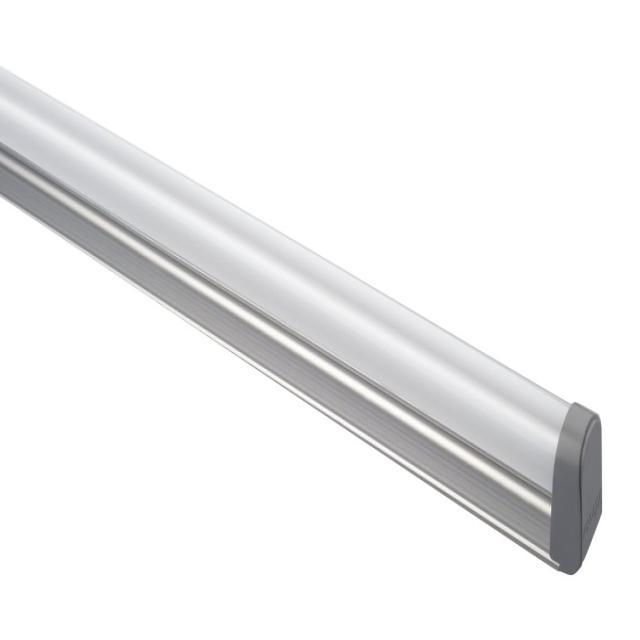tubelight_off: (0, 62, 604, 593)
